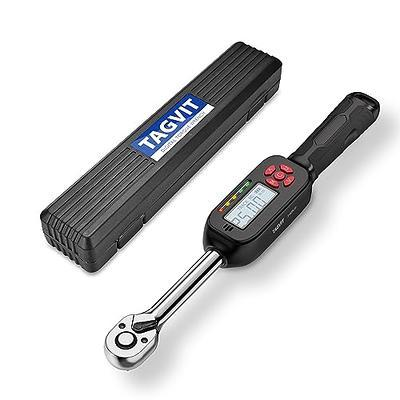Tool: (100, 306, 162, 371)
